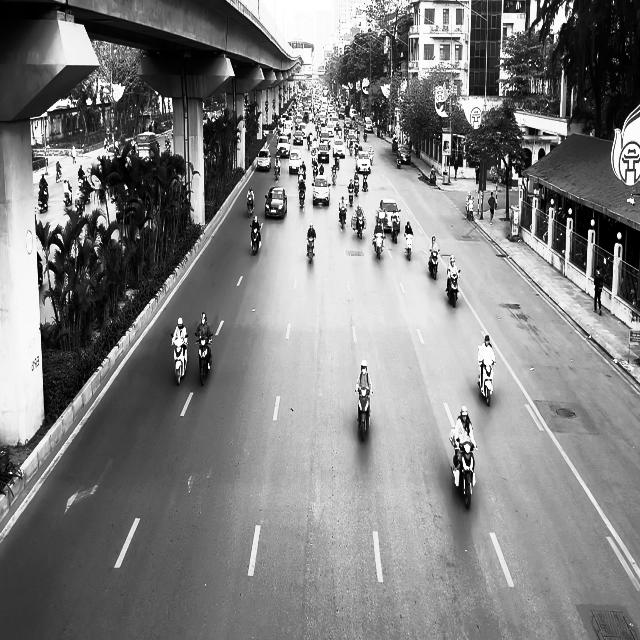car: (264, 186, 288, 219), (379, 198, 401, 232), (312, 174, 331, 206), (356, 151, 371, 174), (257, 148, 271, 170), (397, 145, 411, 167), (289, 149, 301, 174), (332, 138, 346, 158)
motorbike: (450, 430, 477, 509), (195, 331, 213, 385), (171, 333, 189, 385), (478, 355, 496, 406), (356, 388, 372, 441), (446, 268, 461, 308), (250, 222, 263, 255), (372, 231, 386, 259), (428, 250, 439, 280), (404, 232, 414, 260), (338, 203, 348, 230), (38, 186, 48, 212), (307, 237, 316, 264), (356, 214, 365, 239), (391, 218, 399, 244), (299, 181, 306, 208), (247, 198, 254, 216)
